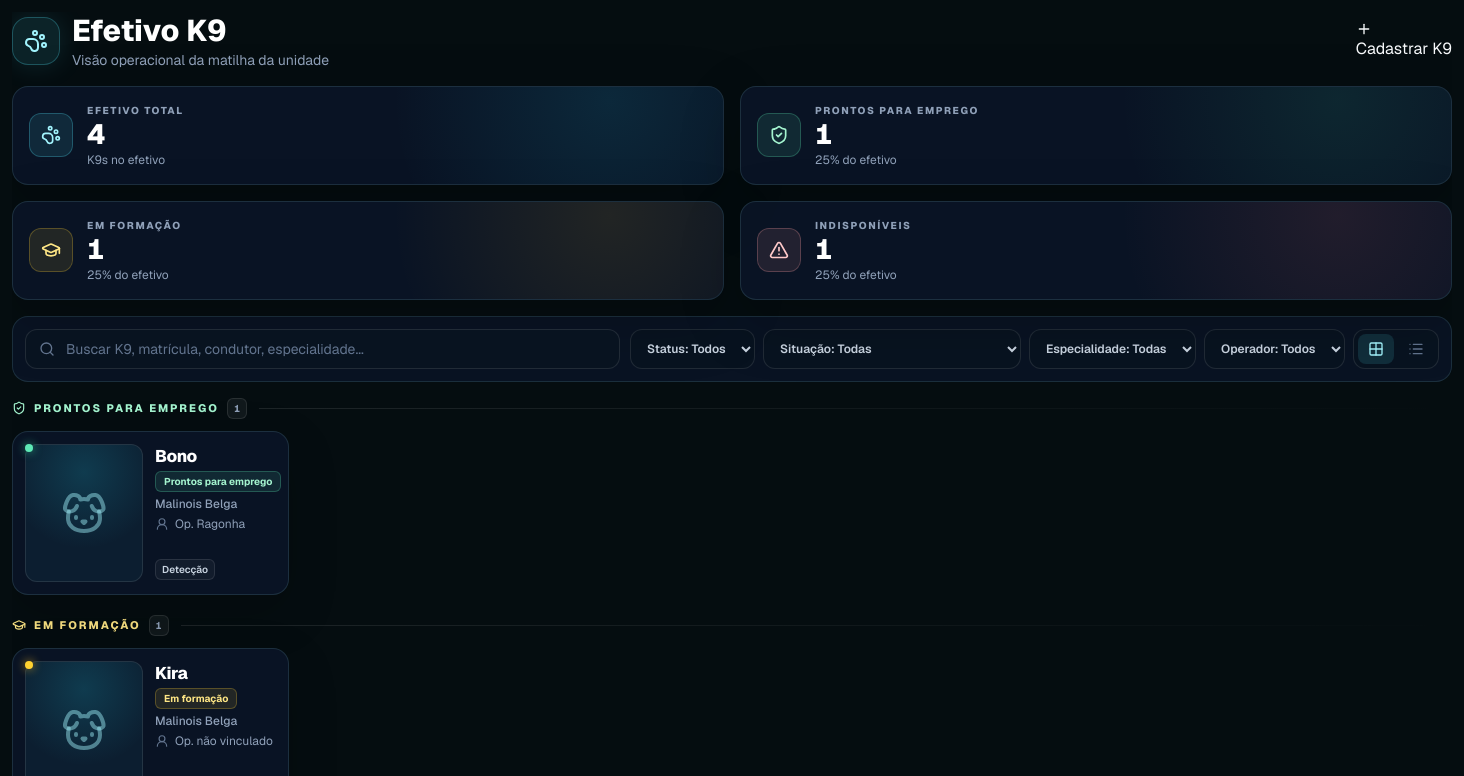
Scenario: seleção e drawer › seleção filtrada para fora fecha o drawer
This screenshot has width=1464, height=776.
Step 1. Click the button with aria-label "Bono —" → click(84, 512), box [12,430,289,594]
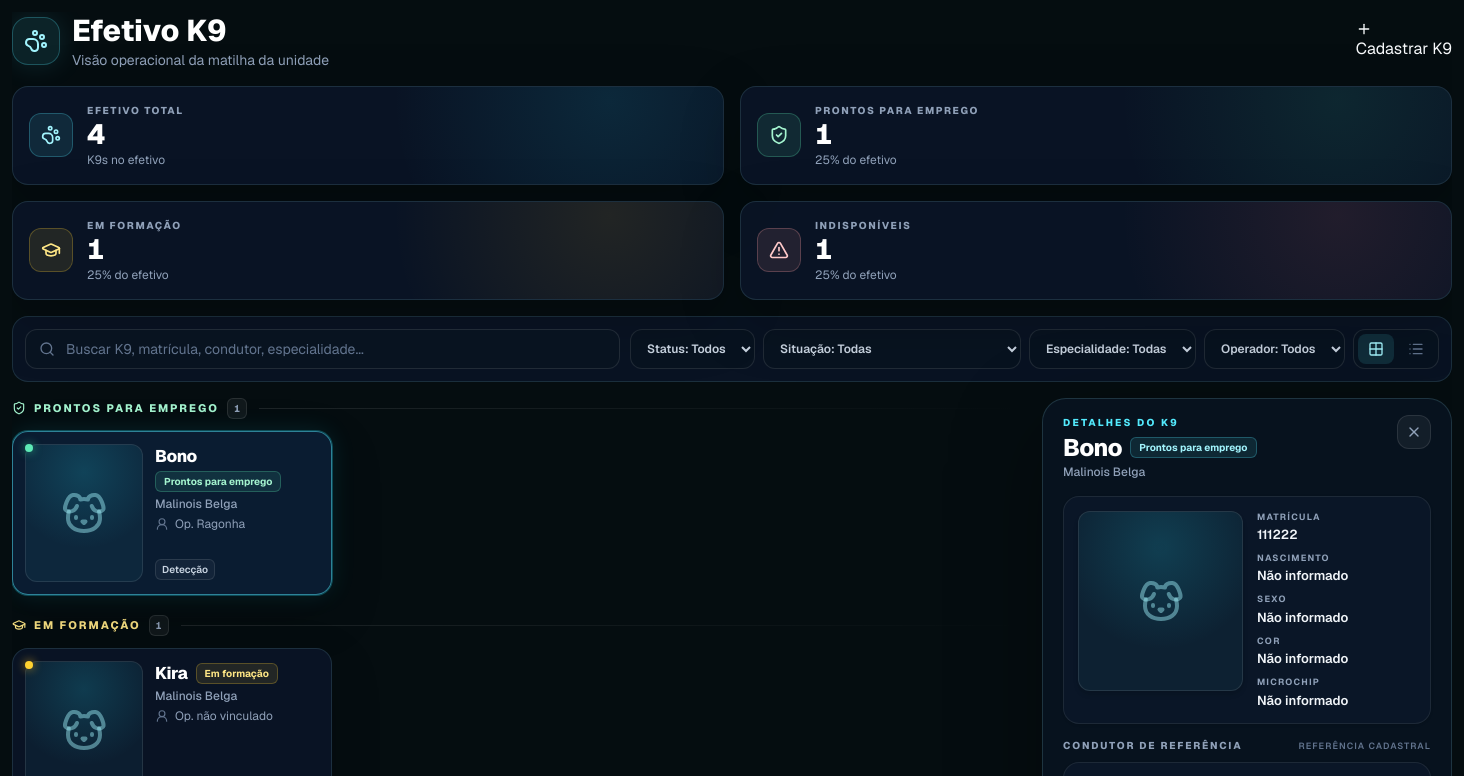
Now the text "Detalhes do K9" is shown, box [1063,416,1179,428]
Step 2. Type "Kira" into the search field → (322, 348), box [25,328,620,368]
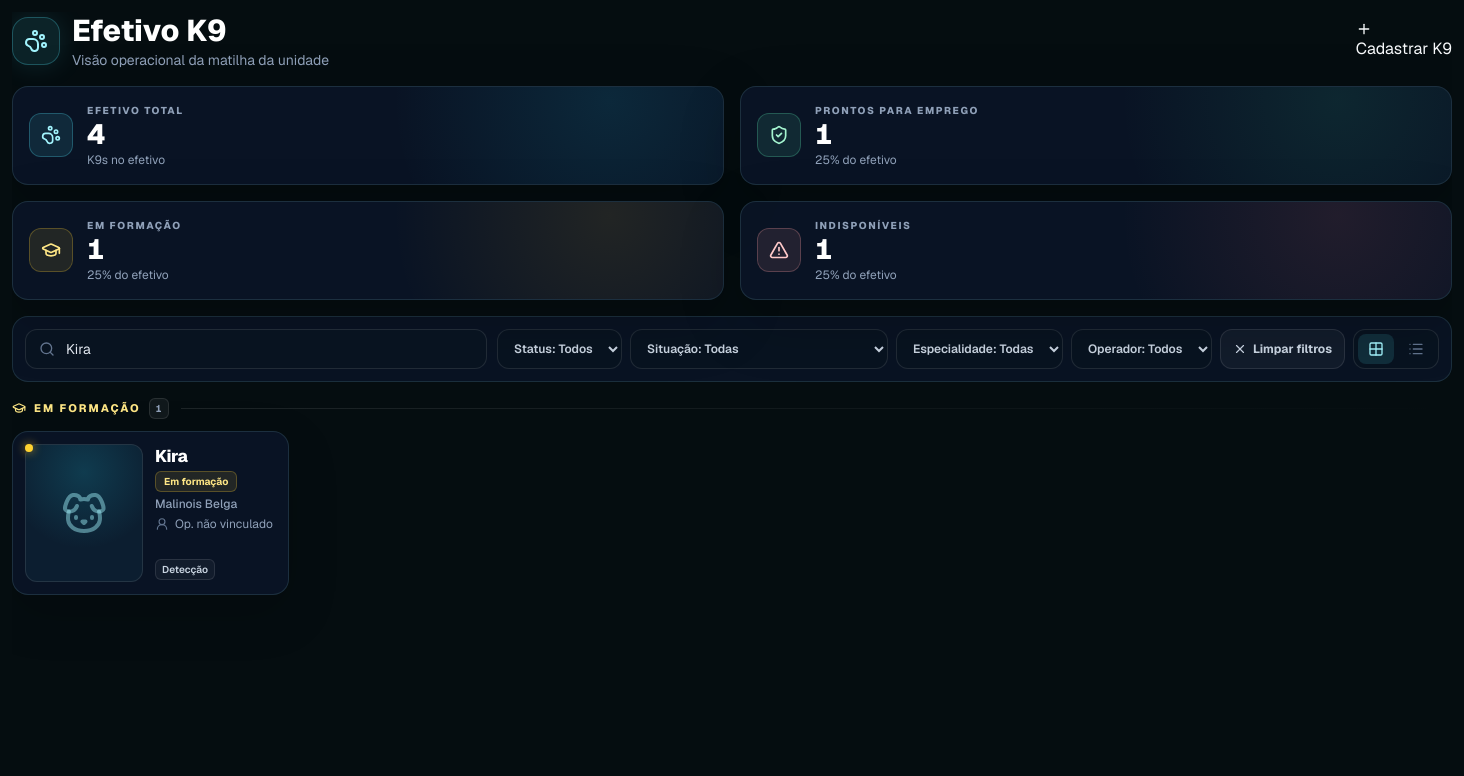
Now the text "Detalhes do K9" is gone
